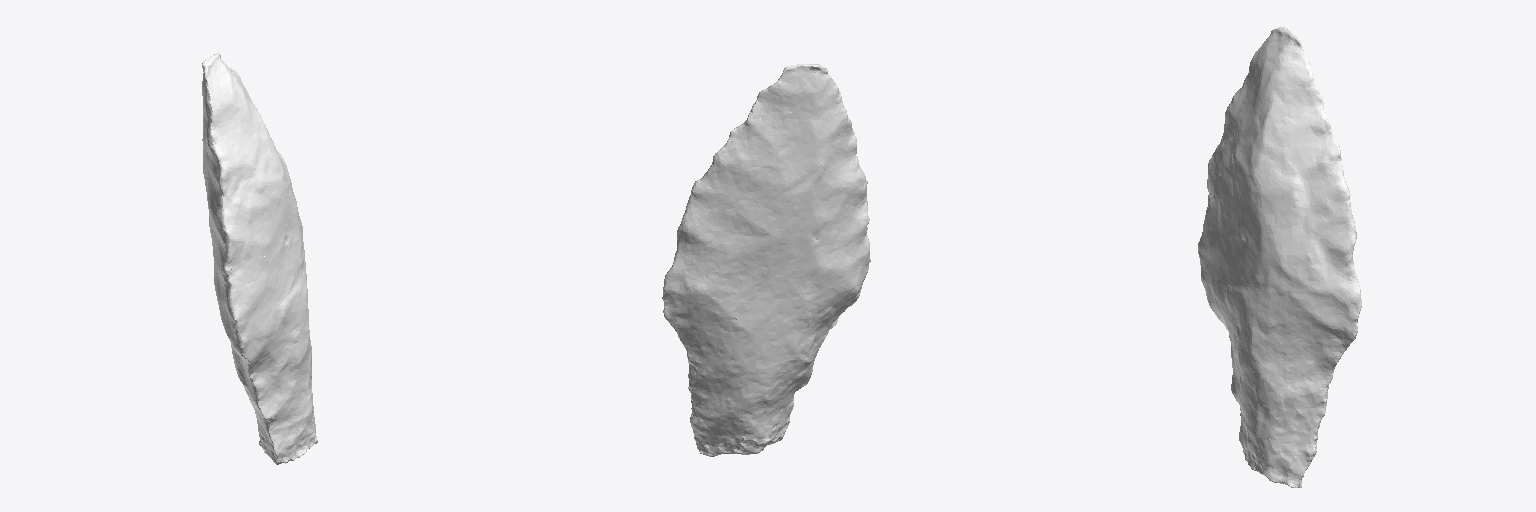
Rendered from pc493real.obj.
3 views of the same model, side by side, from view 1: azimuth 30°, elevation 25°; view 2: azimuth 150°, elevation 25°; view 3: azimuth 270°, elevation 25° (orthographic).
Visible parts, largest first — view 1: pc493; view 2: pc493; view 3: pc493.
Boxes of the visible parts, box(x1,y1,x2,y2) form: pc493: box(202, 53, 317, 464); pc493: box(662, 64, 870, 456); pc493: box(1198, 27, 1361, 487).
Size of the model in its own units: 0.3174 by 0.9307 by 0.339.